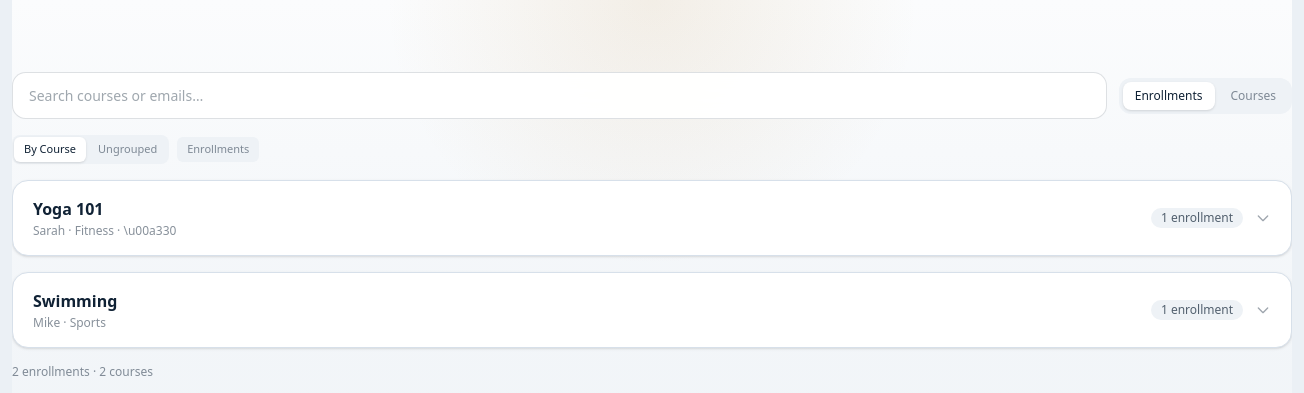
Scenario: CoursesTab › shows course enrollment status in courses view
Click the button "Courses". click: (1253, 96)
box: [1218,82,1288,110]
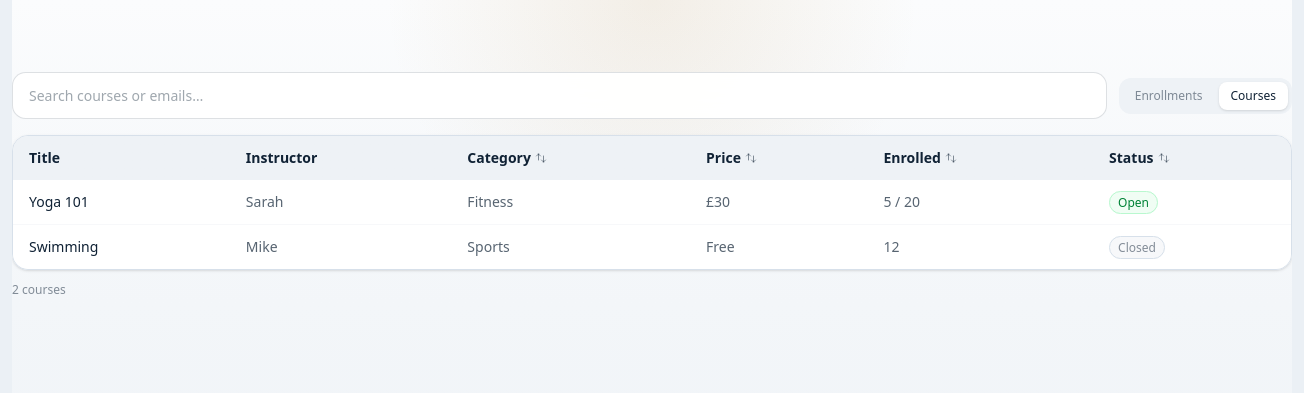
Expected: the text "Open" is shown, [1109,191,1158,214]
Expected: the text "Closed" is shown, [1109,236,1165,259]
